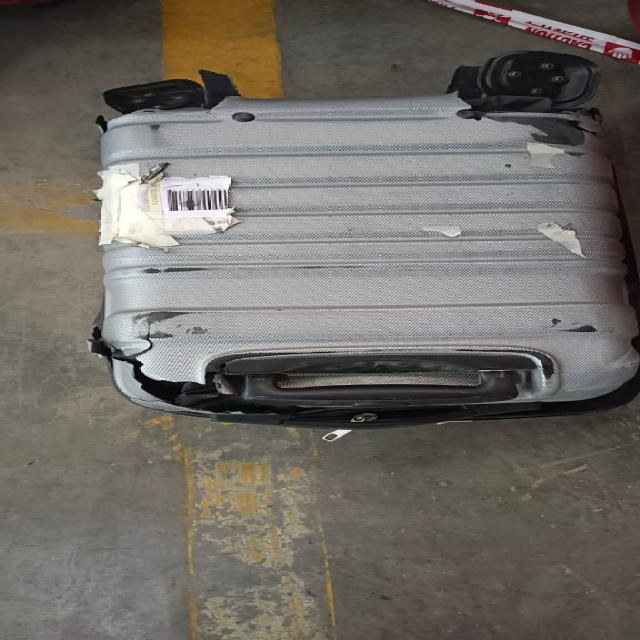Damage-bag: (92, 312, 639, 429), (447, 51, 600, 161), (103, 71, 239, 113), (97, 118, 108, 129)
